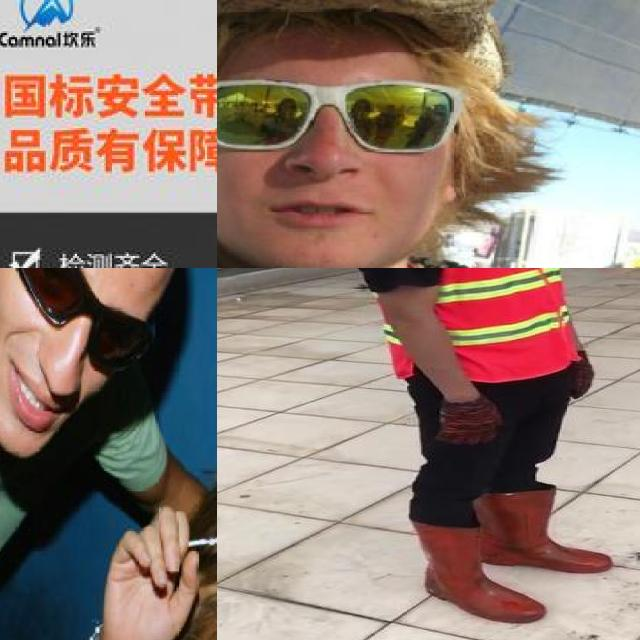boots: (407, 519, 546, 623), (469, 490, 615, 572)
face_nomask: (217, 73, 454, 237), (5, 268, 131, 446)
glasses: (217, 65, 473, 148), (0, 268, 161, 381)
hand_glove: (430, 398, 501, 445)
hand_noglove: (106, 515, 201, 640)
head_nohelmet: (217, 0, 505, 64)
person: (326, 268, 640, 640), (217, 0, 640, 268), (0, 268, 190, 640), (150, 317, 217, 640)
vest: (345, 268, 576, 382)
